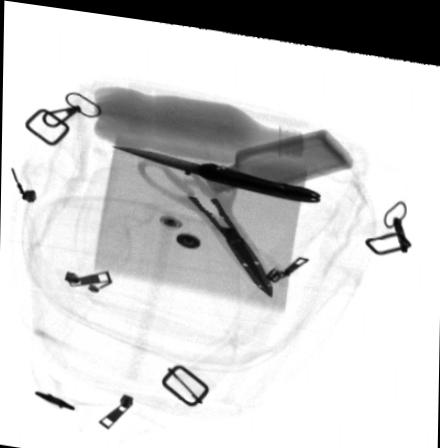Knife: (109, 143, 323, 193)
Scissors: (136, 142, 275, 291)
